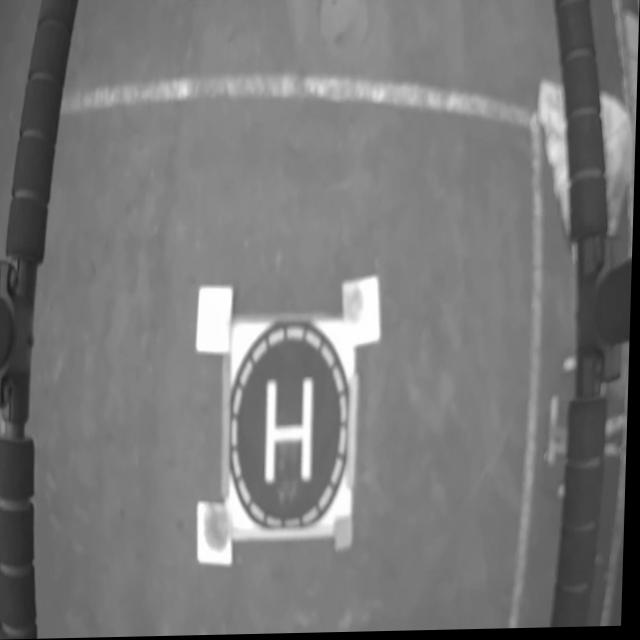Helipad: (267, 382, 316, 483)
